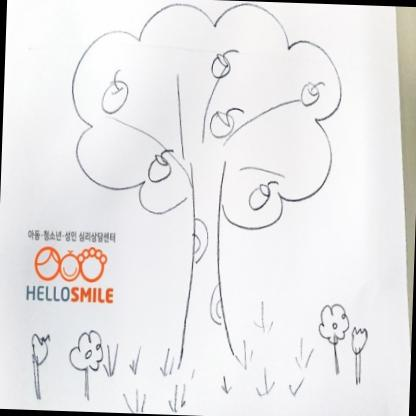apple: (100, 76, 132, 115), (210, 104, 238, 140), (148, 151, 172, 189), (247, 179, 272, 213), (210, 51, 233, 81), (300, 78, 320, 112)
crown_cloud: (68, 0, 346, 235)
knot: (188, 217, 212, 266), (208, 282, 228, 326)
trunk_reflex: (180, 210, 232, 325)
